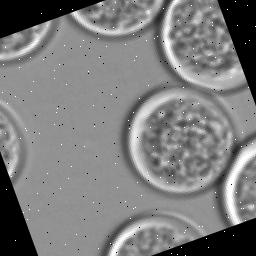picoshell: (122, 82, 240, 197), (157, 0, 248, 92), (103, 209, 207, 256), (69, 0, 166, 40), (217, 132, 256, 229), (0, 17, 60, 66), (0, 98, 29, 183)
